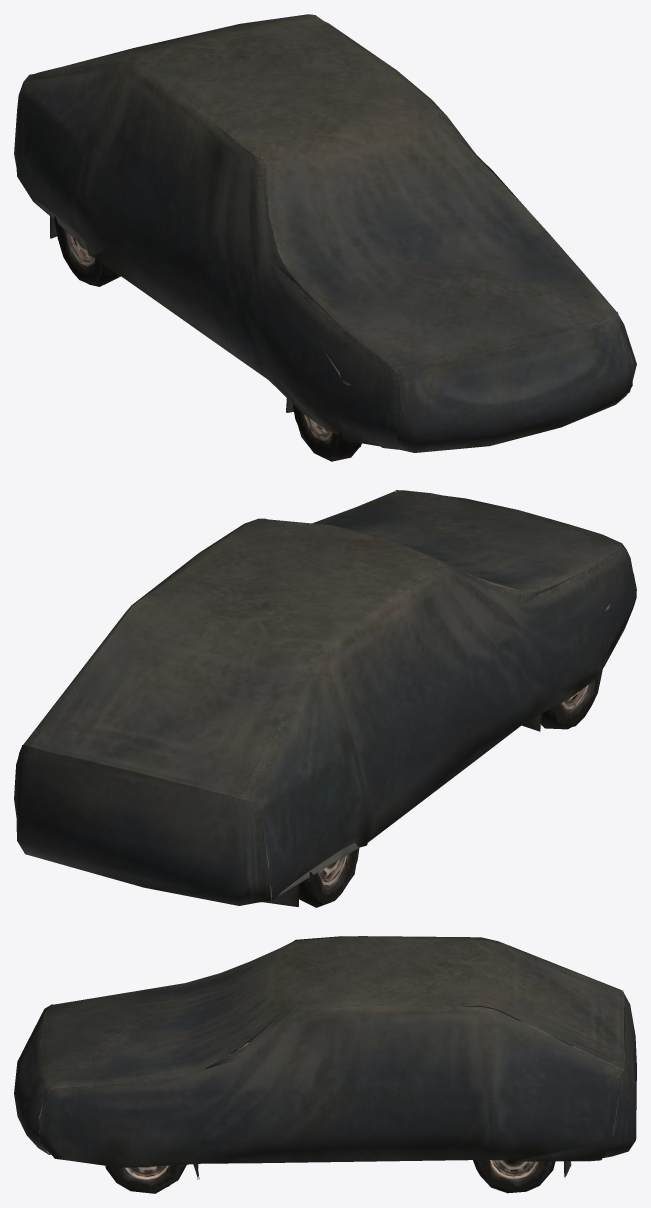
Rendered from covered_car.gltf.
The picture shows the model from 3 angles, top to bottom: view 1: azimuth 30°, elevation 25°; view 2: azimuth 150°, elevation 25°; view 3: azimuth 270°, elevation 25°; orthographic projection. The views are drawn at different scales.
Parts seen in each view (by area): view 1: covered_car_wheel_01; view 2: covered_car_wheel_01; view 3: covered_car_wheel_01.
Part boxes in pixels (x1,y1,x2,y2): covered_car_wheel_01: (14,14,636,461); covered_car_wheel_01: (14,490,636,907); covered_car_wheel_01: (14,936,636,1193).
Bounding box in the file's own units: 1.8 × 1.41 × 4.37.
2 materials, 2 textured.
